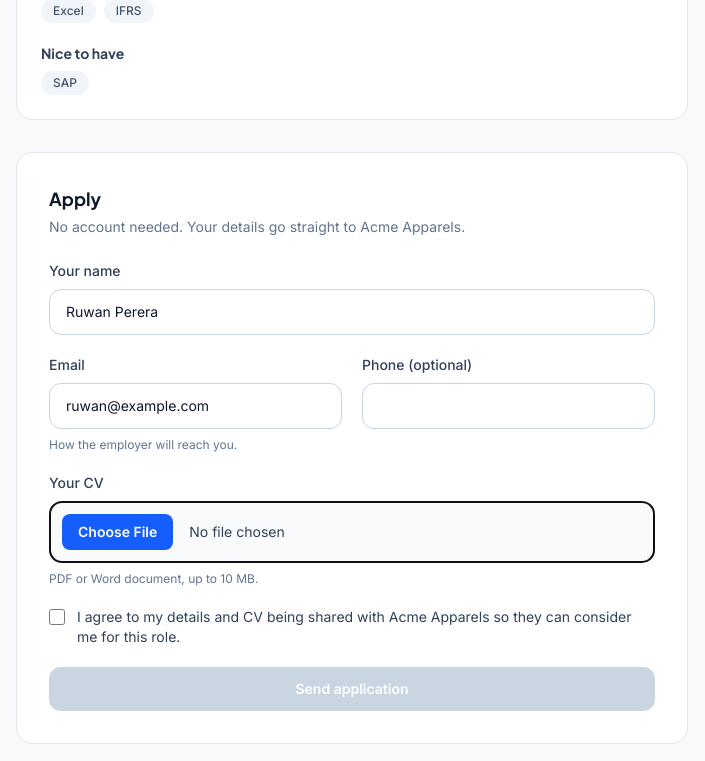
Test: ApplyContent › the form › sends the application and shows the reference
Earlier steps of the test are not shown.
(page scrolled)
Click the checkbox at (57, 617), box [49,609,65,625]
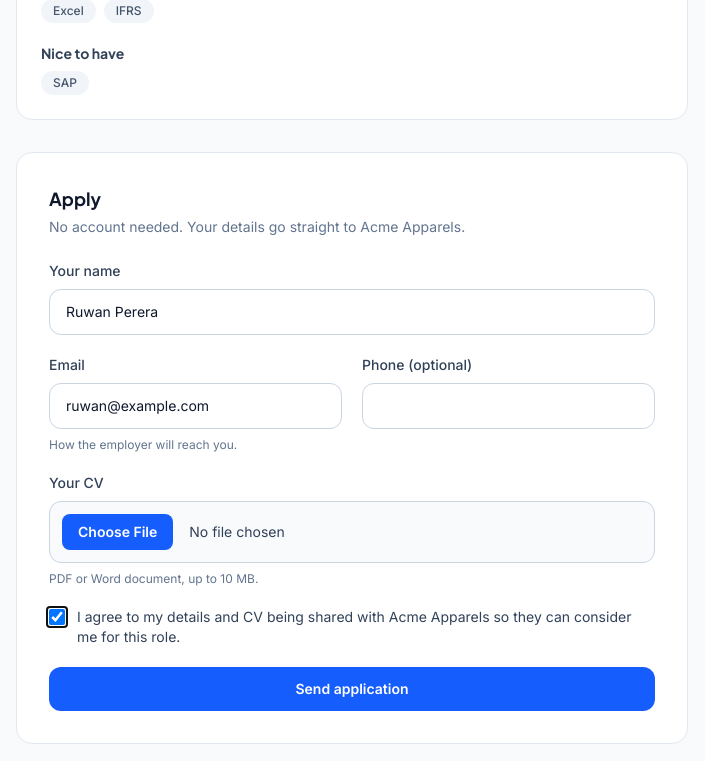
Click the button "Send application" at (352, 689), box [49,667,655,711]
(page scrolled)
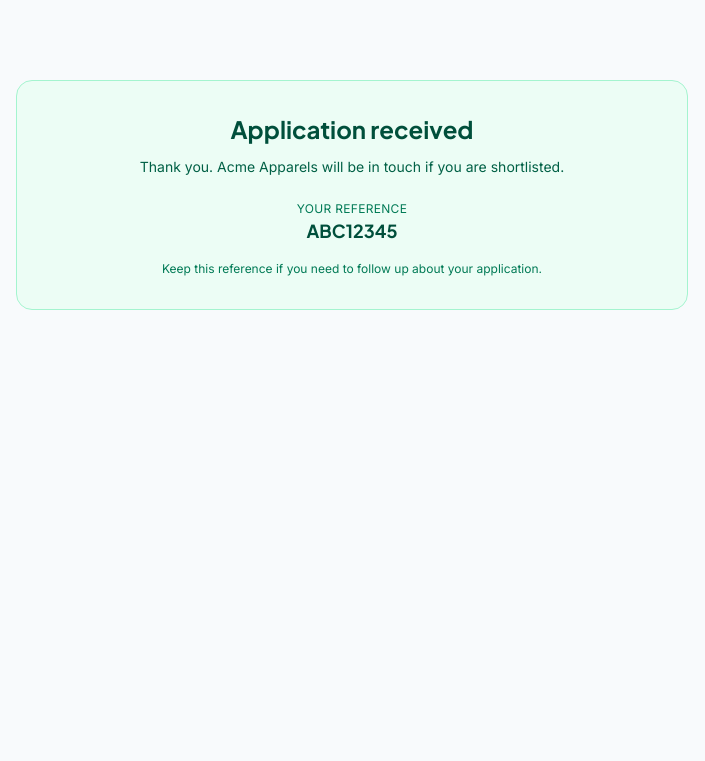
Result: the heading "Application received" is shown at [230,114,473,144]
Result: the text "ABC12345" is shown at [306,219,398,242]
